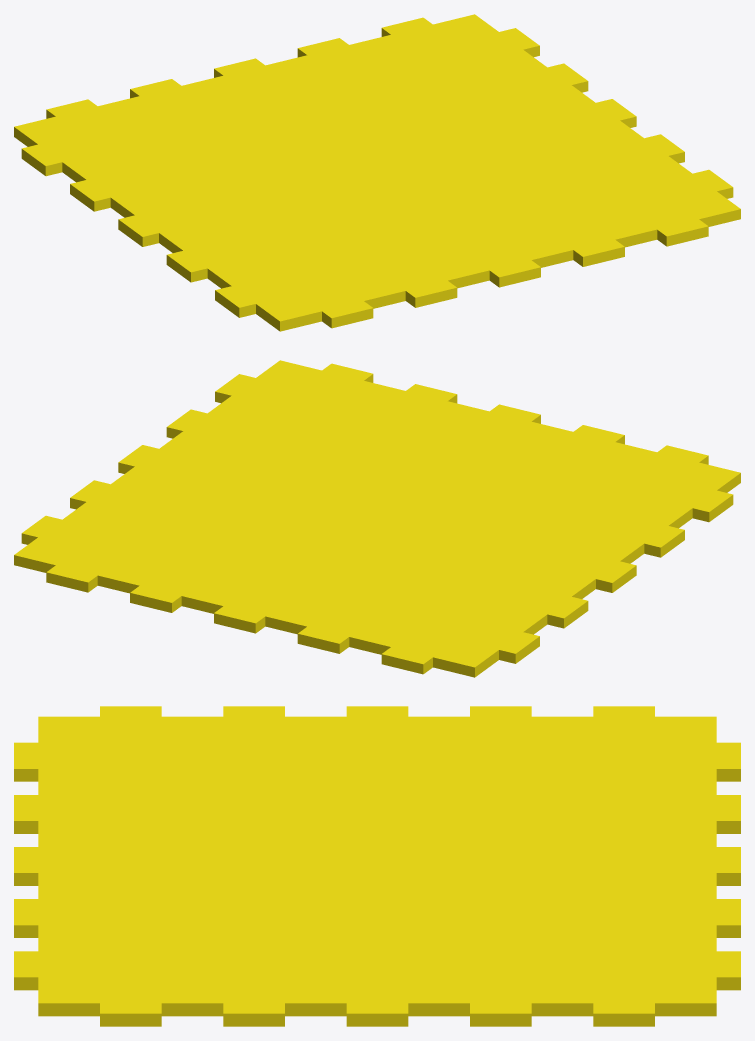
File: training_item_023.glb
The picture shows the model from 3 angles, top to bottom: view 1: azimuth 30°, elevation 25°; view 2: azimuth 150°, elevation 25°; view 3: azimuth 270°, elevation 25°; orthographic projection. The views are drawn at different scales.
Visible parts, largest first — view 1: training_item_023; view 2: training_item_023; view 3: training_item_023.
Part boxes in pixels (<box>): training_item_023: <box>14,14,740,331</box>; training_item_023: <box>14,360,740,677</box>; training_item_023: <box>14,706,740,1026</box>.
Bounding box in the file's own units: 1.07 × 0.021 × 1.07.
Materials: 1 (1 with a texture image).
